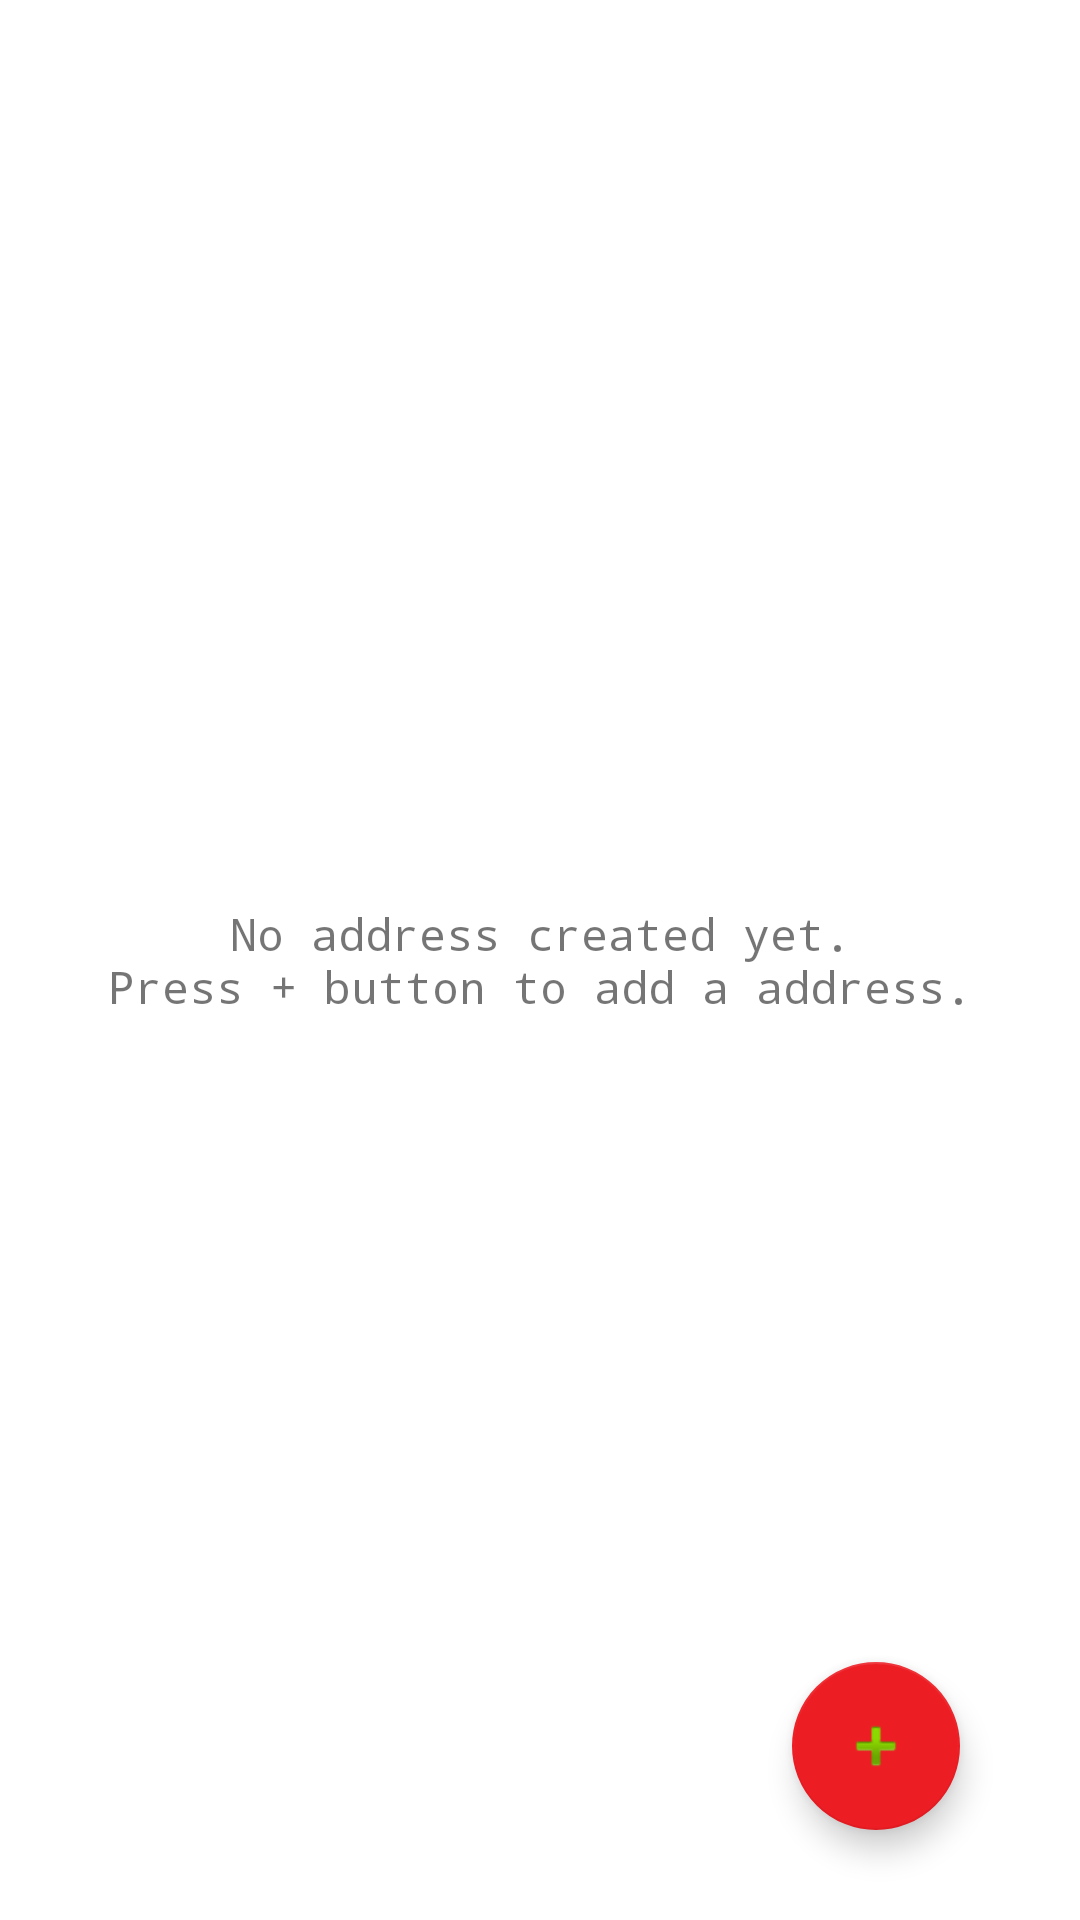

Icons on this 1080w x 1920h Android screen, each with its box as bbox=(x1, y1, x2, y2):
add: bbox=(792, 1662, 960, 1830)
